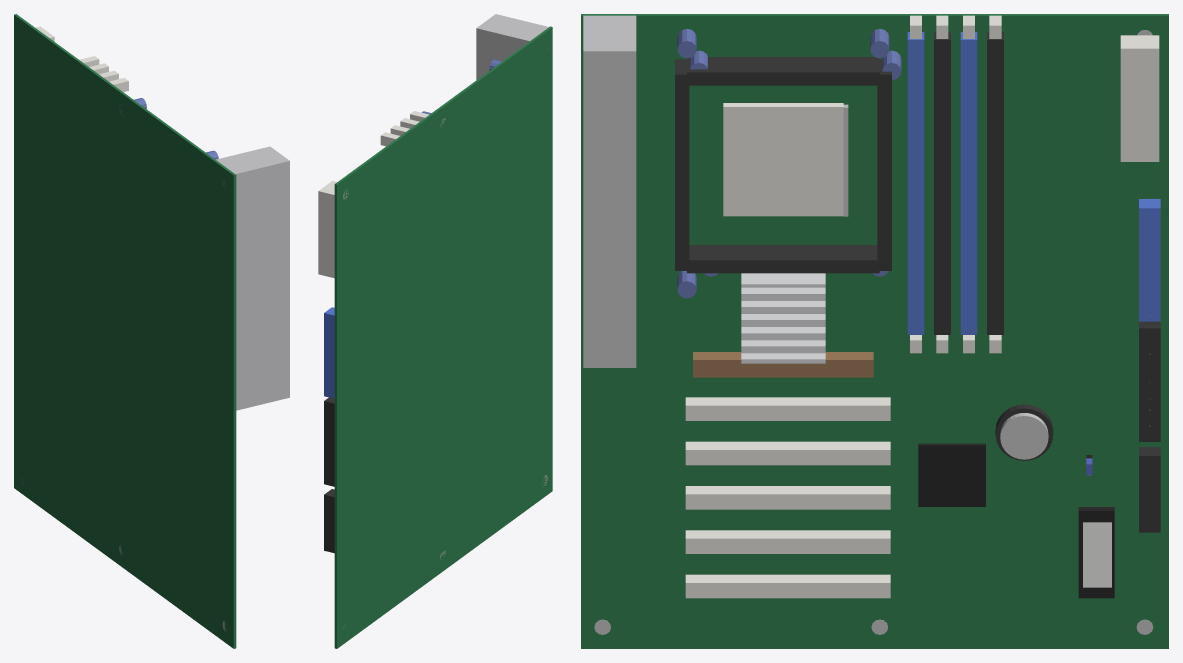
The model's file is mb_atx.glb.
3 views of the same model, side by side, from view 1: azimuth 30°, elevation 25°; view 2: azimuth 150°, elevation 25°; view 3: azimuth 270°, elevation 25° (orthographic). The views are drawn at different scales.
Parts seen in each view (by area): view 1: mb_board; view 2: mb_board; view 3: mb_board, label_bios, cmos_battery.
Boxes of the visible parts, x1,y1,x2,y2 form: mb_board: [14, 14, 289, 648]; mb_board: [318, 14, 552, 648]; mb_board: [581, 14, 1168, 648]; label_bios: [1083, 522, 1111, 587]; cmos_battery: [1000, 413, 1048, 459].
Size of the model in its own units: 0.0366 by 0.29 by 0.244.
